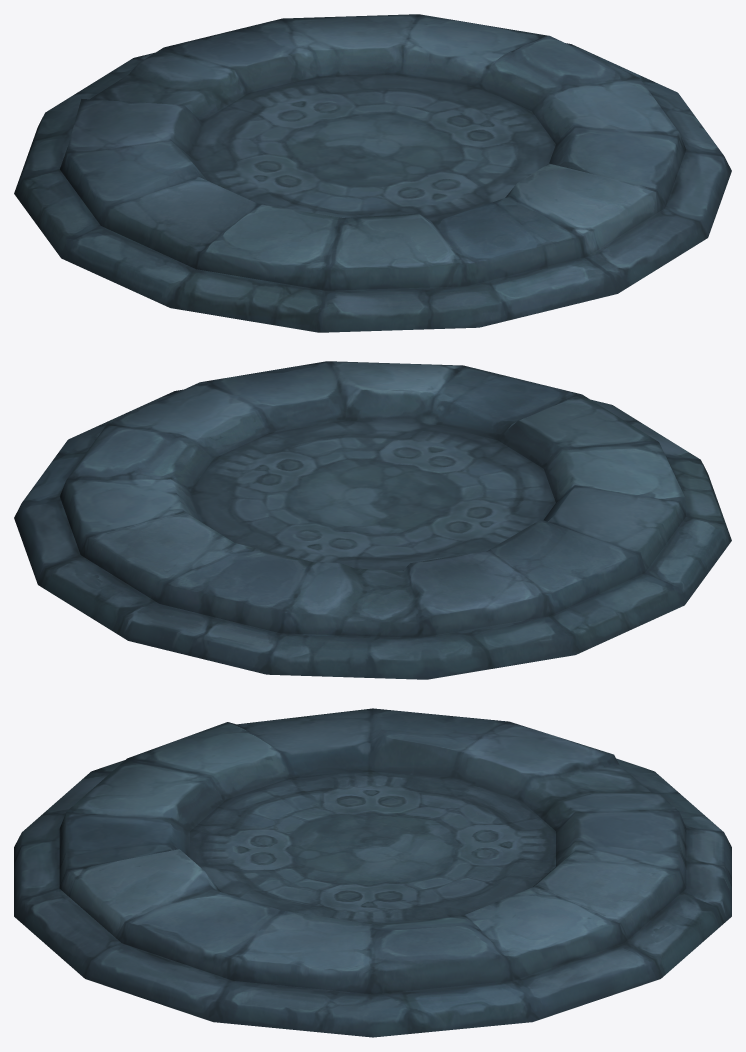
The picture shows the model from 3 angles, top to bottom: view 1: azimuth 30°, elevation 25°; view 2: azimuth 150°, elevation 25°; view 3: azimuth 270°, elevation 25°; orthographic projection. The views are drawn at different scales.
Parts seen in each view (by area): view 1: plinth_circular_01; view 2: plinth_circular_01; view 3: plinth_circular_01.
Boxes of the visible parts, x1=… form: plinth_circular_01: x1=14, y1=14, x2=731, y2=332; plinth_circular_01: x1=14, y1=361, x2=731, y2=679; plinth_circular_01: x1=14, y1=708, x2=731, y2=1037.
Bounding box in the file's own units: 191 × 16.49 × 186.
1 material, 1 textured.
